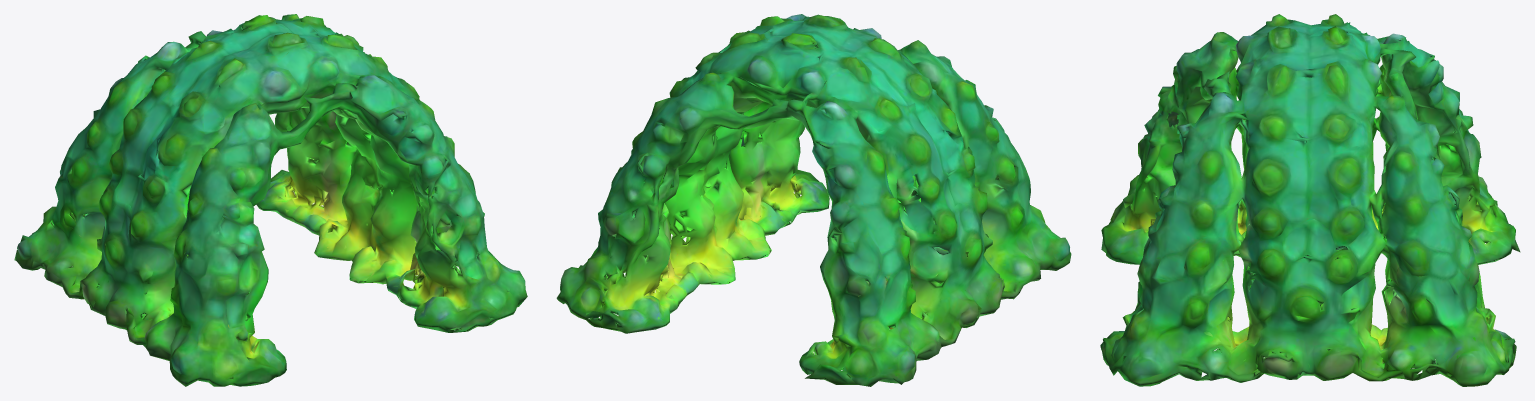
File: arches_made_of_goo_an_0610150345_texture.fbx
The picture shows the model from 3 angles, left to right: view 1: azimuth 30°, elevation 25°; view 2: azimuth 150°, elevation 25°; view 3: azimuth 270°, elevation 25°; orthographic projection. The views are drawn at different scales.
Visible parts, largest first — view 1: Mesh1; view 2: Mesh1; view 3: Mesh1.
Boxes of the visible parts, <box> form: Mesh1: <box>14,14,527,386</box>; Mesh1: <box>556,14,1071,386</box>; Mesh1: <box>1100,14,1520,386</box>.
Size of the model in its own units: 200 by 143 by 198.
Materials: 1 (1 with a texture image).
